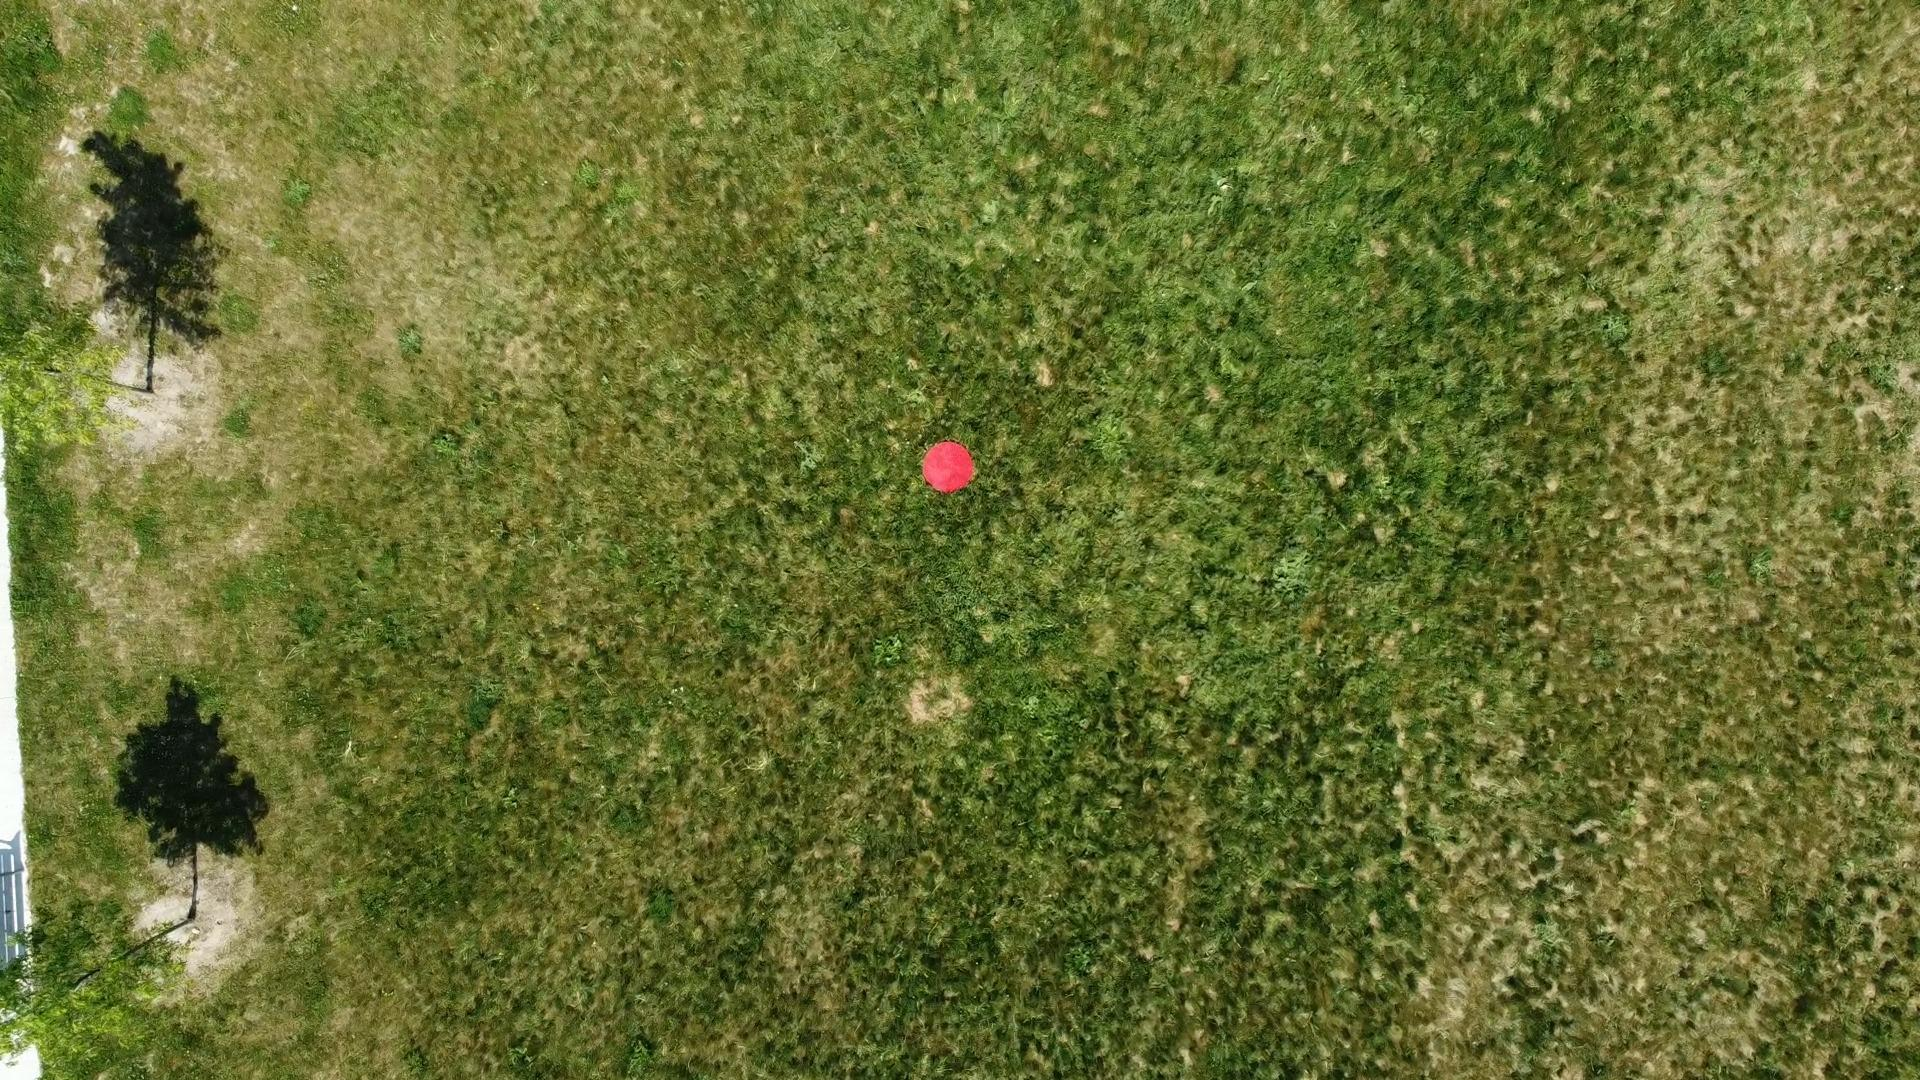Red: (922, 439, 976, 495)
